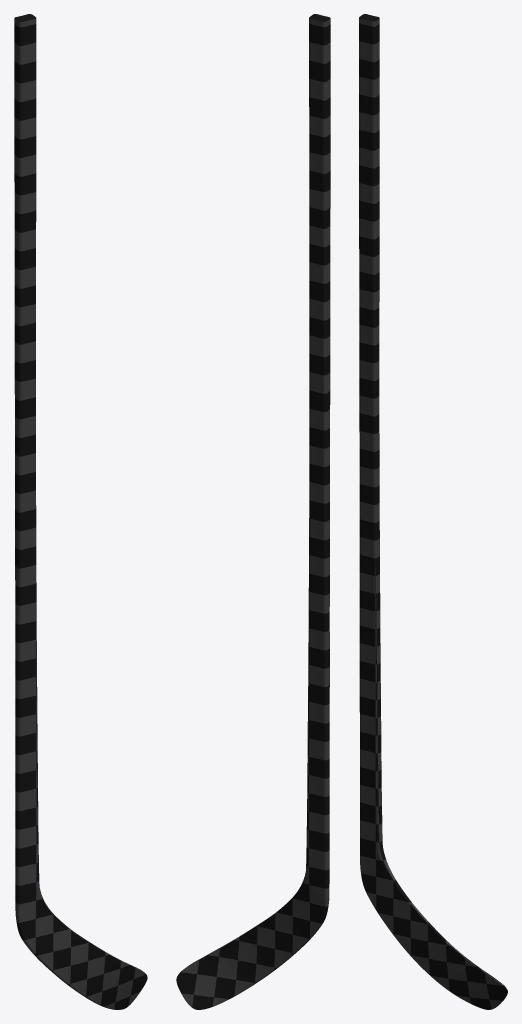
Rendered from P117-SBT.glb.
3 renders of one model, left to right at view 1: azimuth 30°, elevation 25°; view 2: azimuth 150°, elevation 25°; view 3: azimuth 330°, elevation 25°, orthographic. The views are drawn at different scales.
Visible parts, largest first — view 1: geometry_0; view 2: geometry_0; view 3: geometry_0.
Part boxes in pixels (left/top/right/bottom): geometry_0: left=14, top=14, right=147, bottom=1009; geometry_0: left=176, top=14, right=330, bottom=1009; geometry_0: left=359, top=14, right=507, bottom=1009.
Size of the model in its own units: 240 by 1650 by 51.06.
1 material, 1 textured.
